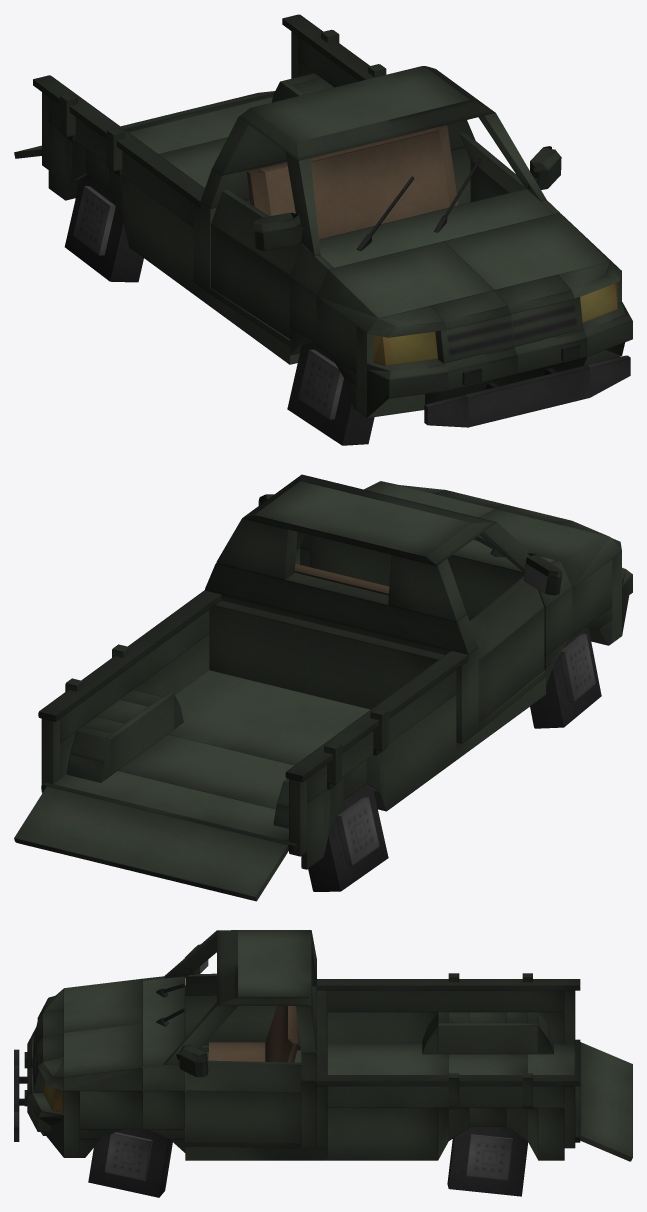
Rendered from truck_wreckage3.obj.
3 views of the same model, one above another, from view 1: azimuth 30°, elevation 25°; view 2: azimuth 150°, elevation 25°; view 3: azimuth 270°, elevation 25° (orthographic). The views are drawn at different scales.
Visible parts, largest first — view 1: bodyModel82, bodyModel142, bodyModel63, bodyModel71, bodyModel80, bodyModel122, bodyModel58, bodyModel3, bodyModel15, bodyModel133, bodyModel14, bodyModel131 (+48 smaller); view 2: bodyModel13, bodyModel8, bodyModel82, bodyModel48, bodyModel128, bodyModel49, bodyModel80, bodyModel14, bodyModel58, bodyModel63, bodyModel122, bodyModel100 (+29 smaller); view 3: bodyModel82, bodyModel126, bodyModel45, bodyModel51, bodyModel13, bodyModel71, bodyModel9, bodyModel63, bodyModel48, bodyModel58, bodyModel127, bodyModel61 (+45 smaller).
Boxes of the visible parts, x1,y1,x2,y2 form: bodyModel82: (239,66,495,160); bodyModel142: (258,128,449,239); bodyModel63: (316,241,494,332); bodyModel71: (444,213,621,289); bodyModel80: (319,189,553,267); bodyModel122: (211,224,289,338); bodyModel58: (129,180,199,298); bodyModel3: (465,365,589,427); bodyModel15: (33,75,204,207); bodyModel133: (64,174,143,282); bodyModel14: (128,97,272,153); bodyModel131: (287,342,374,445); bodyModel13: (14,786,288,901); bodyModel8: (209,600,468,743); bodyModel82: (242,474,496,565); bodyModel48: (167,670,370,765); bodyModel128: (205,563,478,654); bodyModel49: (118,734,294,809); bodyModel80: (310,535,554,620); bodyModel14: (53,771,288,841); bodyModel58: (386,694,456,810); bodyModel63: (473,509,621,587); bodyModel122: (478,608,544,724); bodyModel100: (38,590,221,721); bodyModel82: (217,930,311,1005); bodyModel126: (185,1090,301,1144); bodyModel45: (327,1108,438,1160); bodyModel51: (327,990,564,1012); bodyModel13: (579,1042,632,1161); bodyModel71: (64,1023,142,1091); bodyModel9: (327,1086,564,1107); bodyModel63: (64,978,142,1032); bodyModel48: (327,1044,448,1074); bodyModel58: (327,1012,438,1044); bodyModel127: (185,1060,301,1093); bodyModel61: (438,1023,538,1054).
Size of the model in its own units: 3.28 by 2.45 by 7.34.
Materials: 1 (1 with a texture image).
